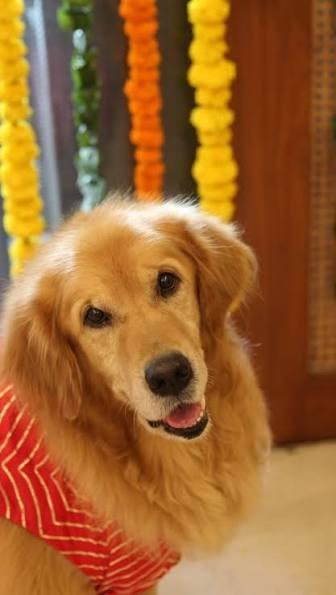adult_dog: (0, 198, 273, 589)
